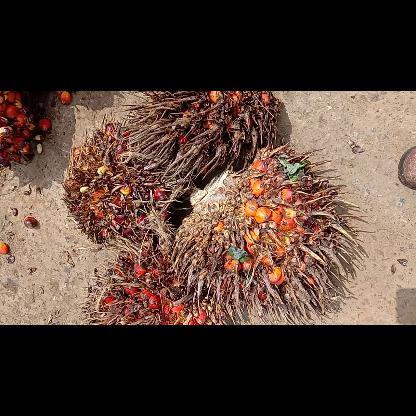Terlalu masak: (168, 139, 362, 324), (60, 108, 198, 250), (114, 91, 284, 185), (78, 240, 228, 324)
